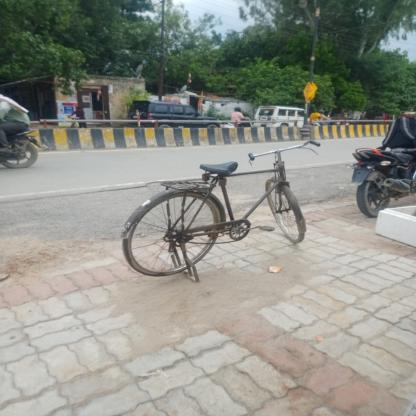bike: (111, 137, 327, 287)
